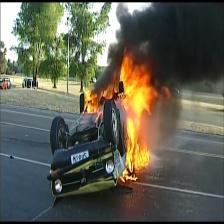fire: (81, 59, 164, 180)
